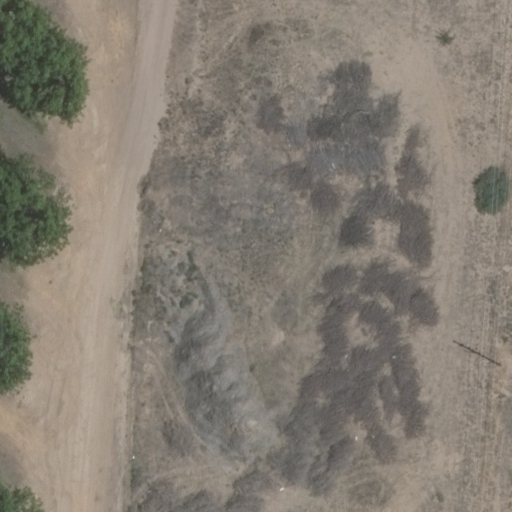DT: (480, 351, 509, 373)
